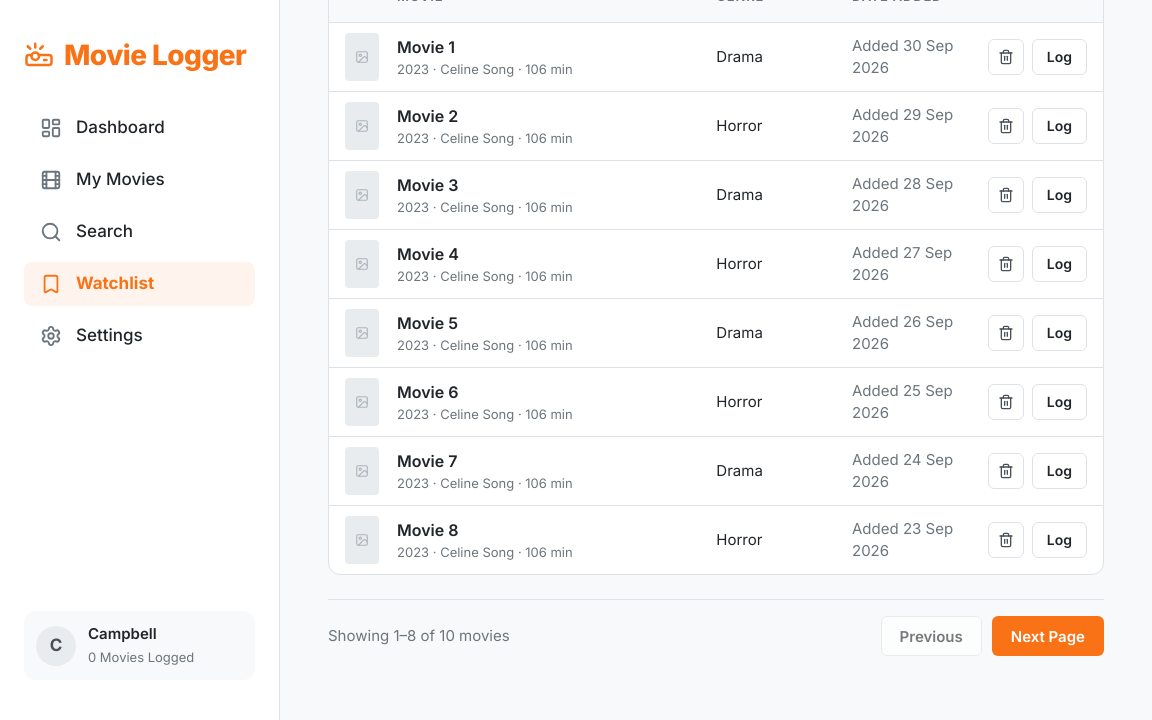
Test: Watchlist page › lists movies with genre and date added, newest first, 8 per page
The width and height of the screenshot is (1152, 720).
(page scrolled)
Expected: the link "Movie 1" is shown, [397, 37, 455, 57]
Expected: the text "Drama" in the row of "Movie 1" is shown, [716, 47, 763, 66]
Click the button "Next Page". click: [1048, 636]
box: [992, 616, 1104, 656]
(page scrolled)
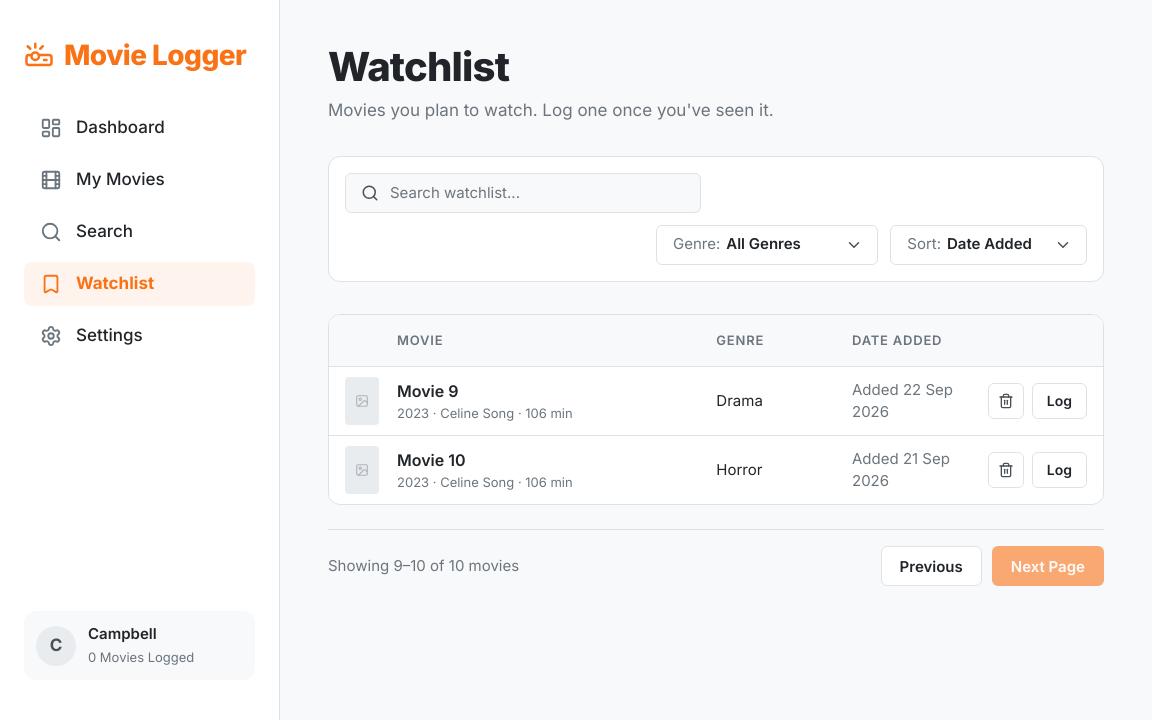
Expected: the text "Showing 9–10 of 10 movies" is shown, [328, 555, 519, 577]
